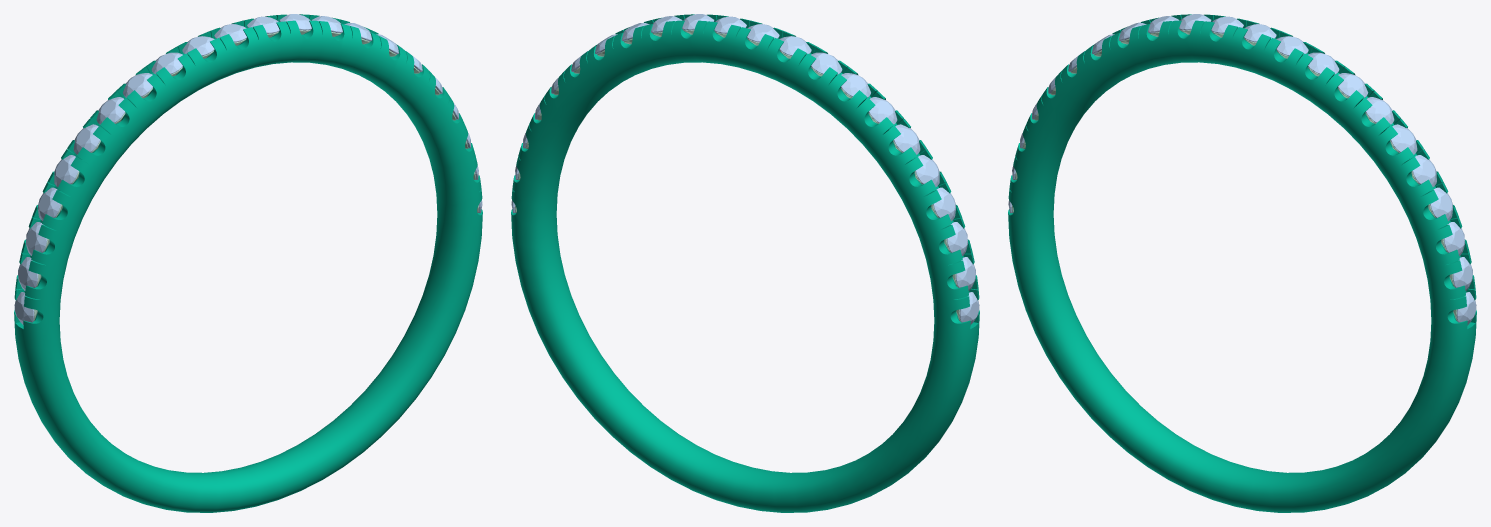
3 views of the same model, side by side, from view 1: azimuth 30°, elevation 25°; view 2: azimuth 150°, elevation 25°; view 3: azimuth 330°, elevation 25° (orthographic).
Parts seen in each view (by area): view 1: SIZE R RPT(front).3dm, Diamond_Round; view 2: SIZE R RPT(front).3dm, Diamond_Round; view 3: SIZE R RPT(front).3dm, Diamond_Round.
Boxes of the visible parts, left/top/right/bottom form: SIZE R RPT(front).3dm: left=14, top=14, right=482, bottom=512; Diamond_Round: left=73, top=124, right=100, bottom=154; SIZE R RPT(front).3dm: left=511, top=14, right=979, bottom=512; Diamond_Round: left=894, top=124, right=920, bottom=154; SIZE R RPT(front).3dm: left=1008, top=14, right=1476, bottom=512; Diamond_Round: left=1390, top=124, right=1417, bottom=154.
Size of the model in its own units: 2.82 by 2.82 by 0.2573.
